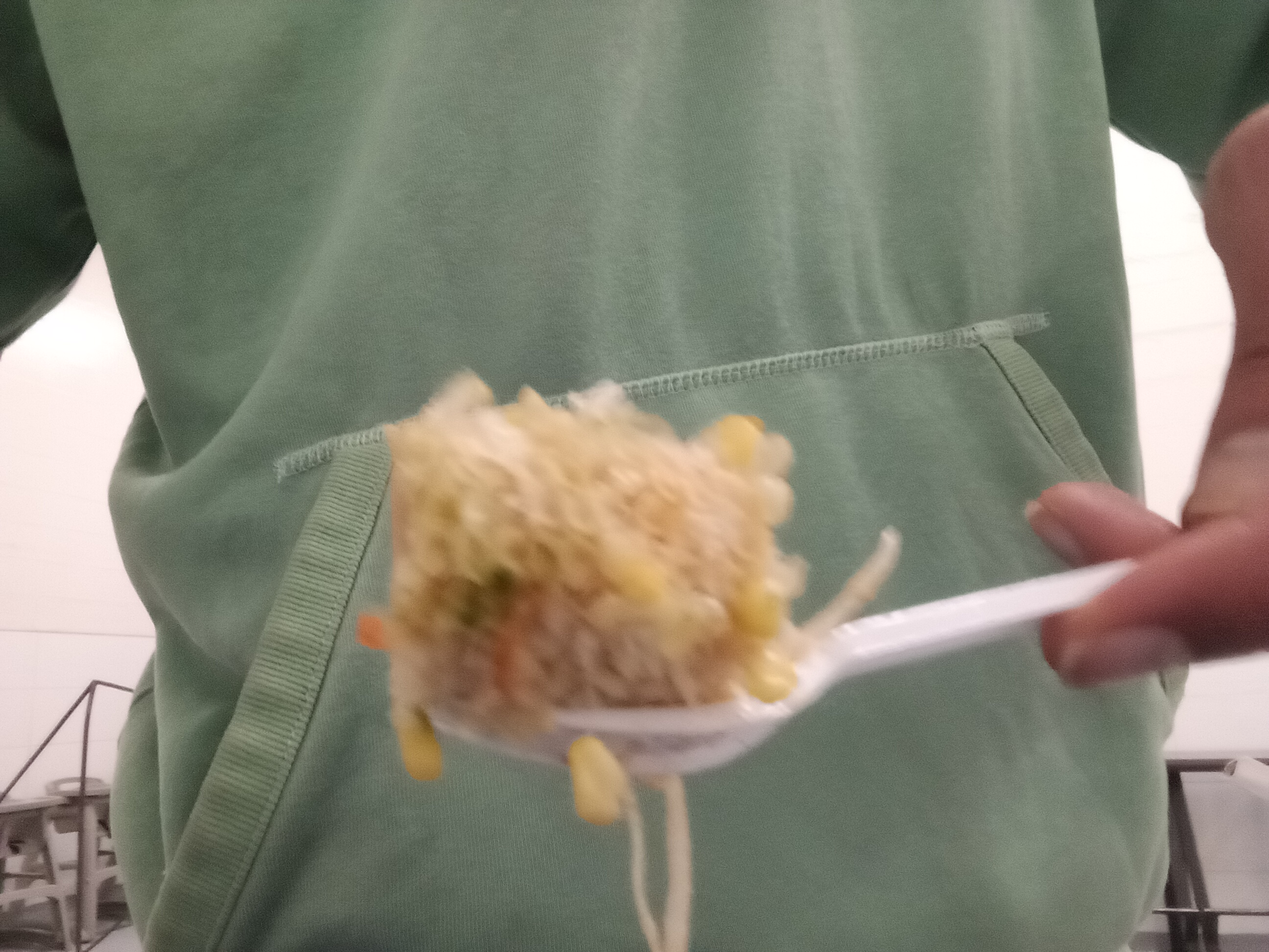Organico: (392, 372, 803, 709)
